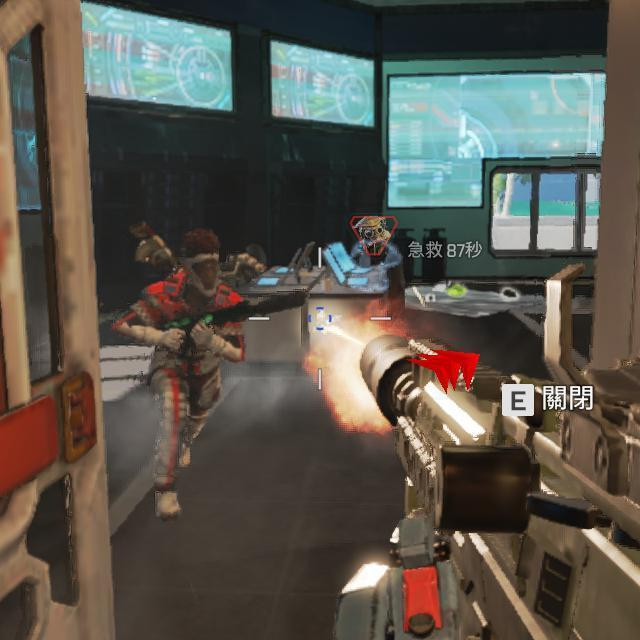avatar: (111, 221, 269, 520)
